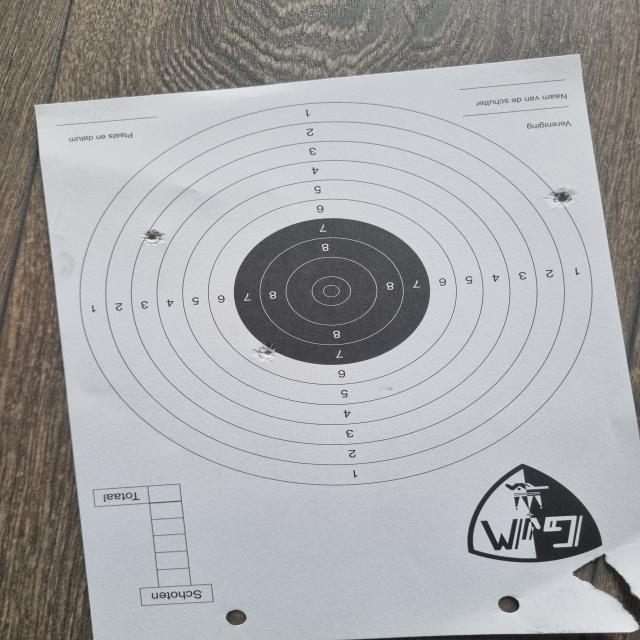1: (543, 192, 573, 204)
3: (140, 228, 165, 246)
7: (250, 346, 278, 362)
Target: (81, 99, 594, 488)
black_contour: (234, 219, 431, 365)
